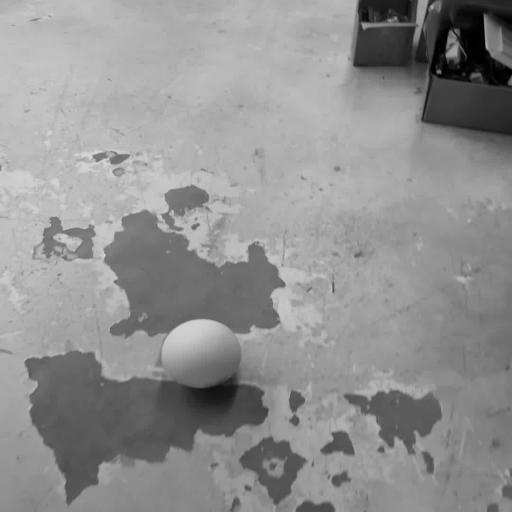fuel: (162, 319, 241, 388)
